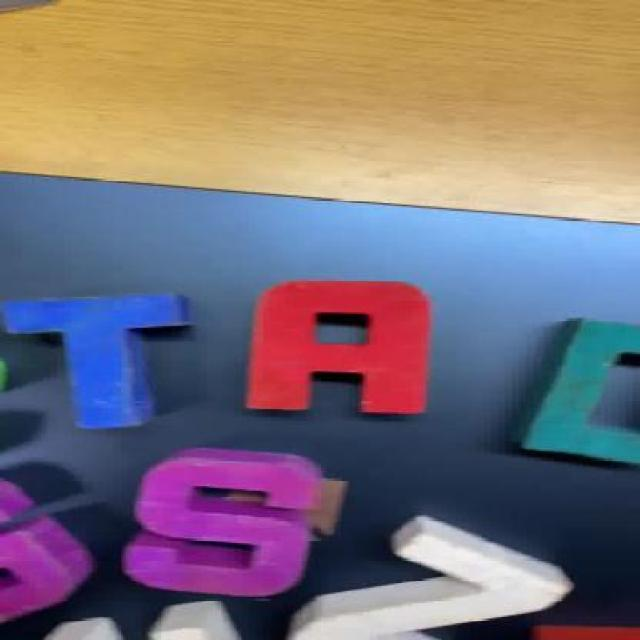A: (250, 275, 436, 419)
S: (124, 444, 316, 602)
T: (13, 289, 192, 433)
Z: (291, 514, 575, 638)
